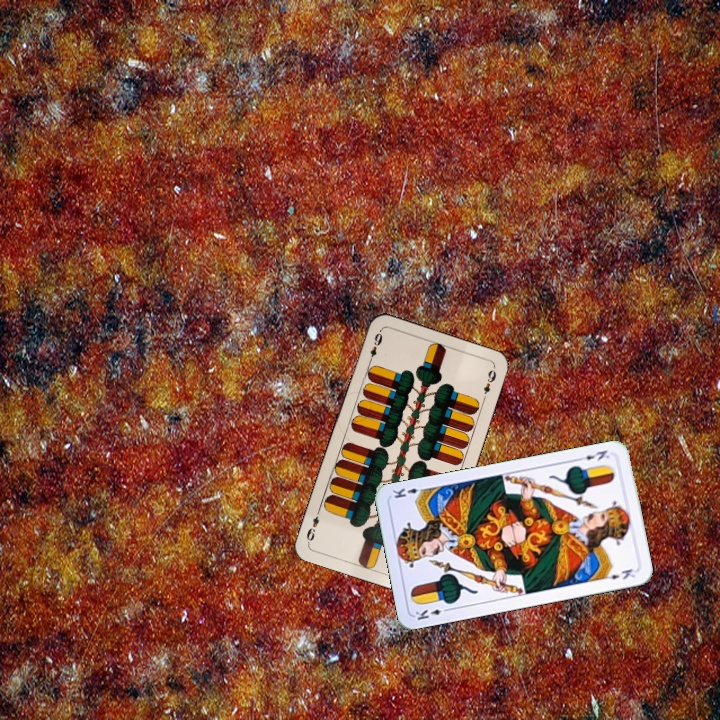E9: (365, 327, 385, 367)
EK: (411, 604, 452, 623), (574, 446, 612, 464)
